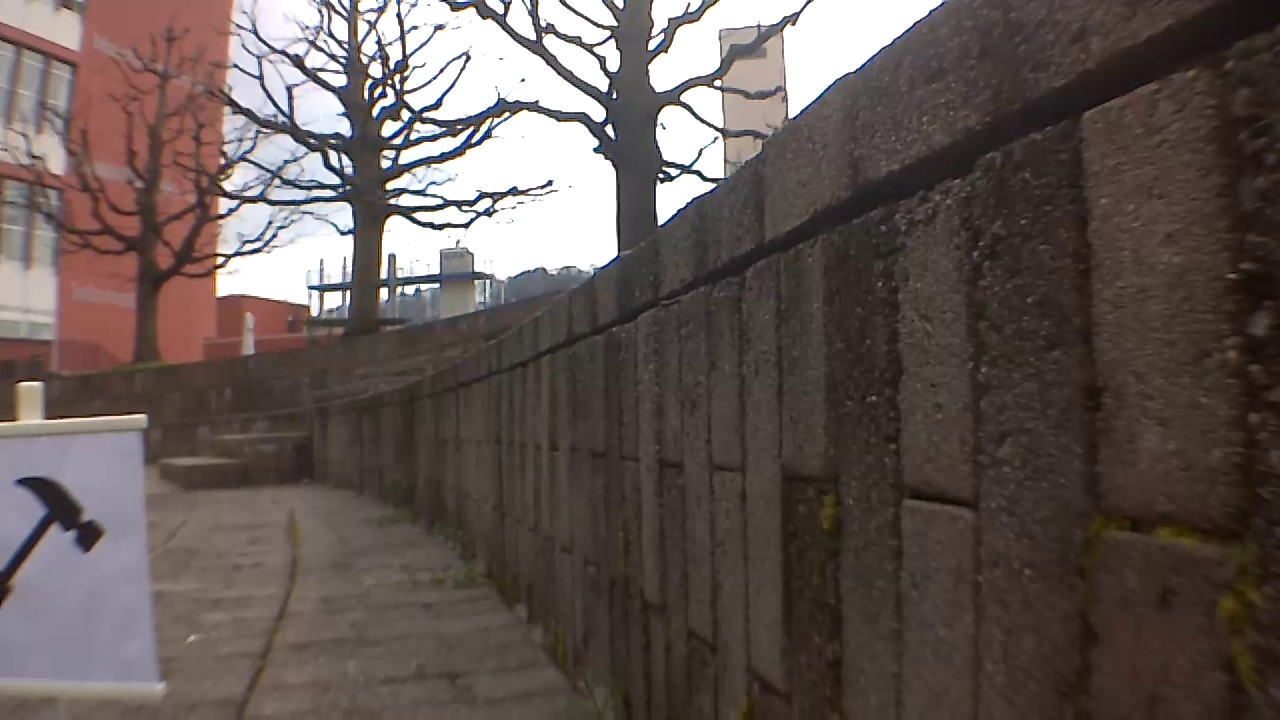hammer: (0, 467, 113, 621)
